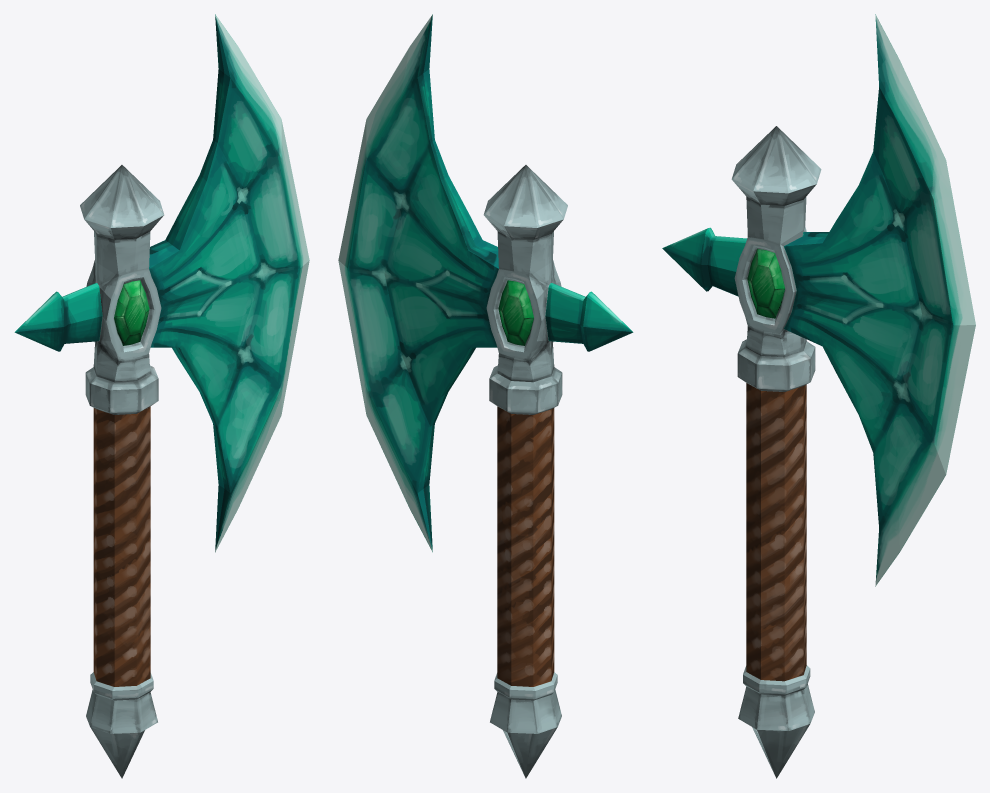
File: battleaxe1.glb
3 views of the same model, side by side, from view 1: azimuth 30°, elevation 25°; view 2: azimuth 150°, elevation 25°; view 3: azimuth 330°, elevation 25° (orthographic). The views are drawn at different scales.
Parts seen in each view (by area): view 1: battle axe 1; view 2: battle axe 1; view 3: battle axe 1.
Part boxes in pixels (<box>): battle axe 1: <box>14,14,309,778</box>; battle axe 1: <box>338,14,633,778</box>; battle axe 1: <box>662,14,975,778</box>.
Bounding box in the file's own units: 6.95 × 16.7 × 1.79.
1 material, 1 textured.
